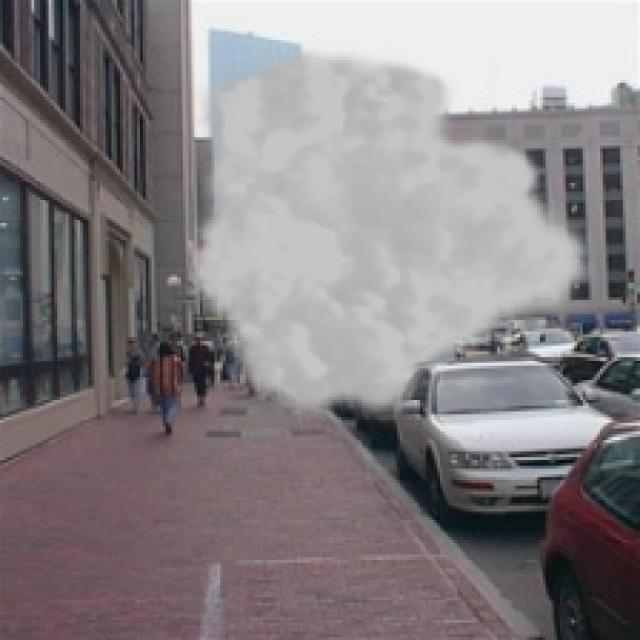smoke: (183, 43, 603, 428)
